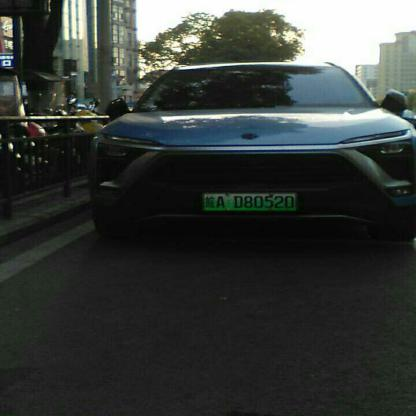lp: (203, 192, 296, 210)
